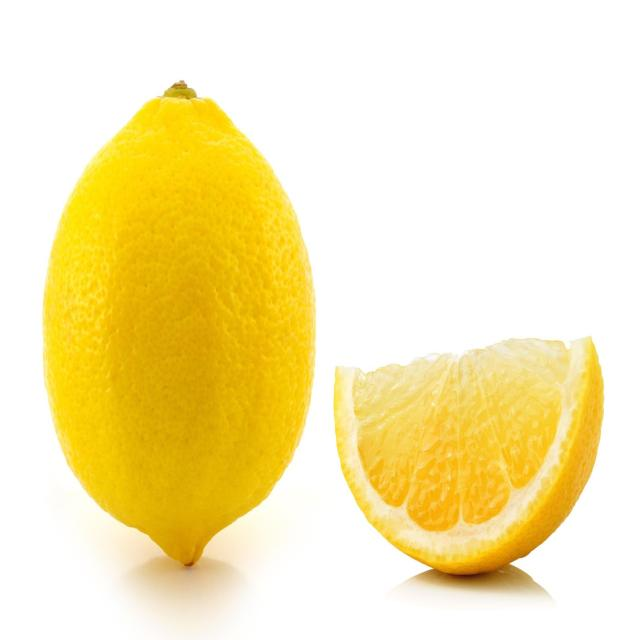lemon: (37, 74, 317, 576), (327, 328, 608, 580)
